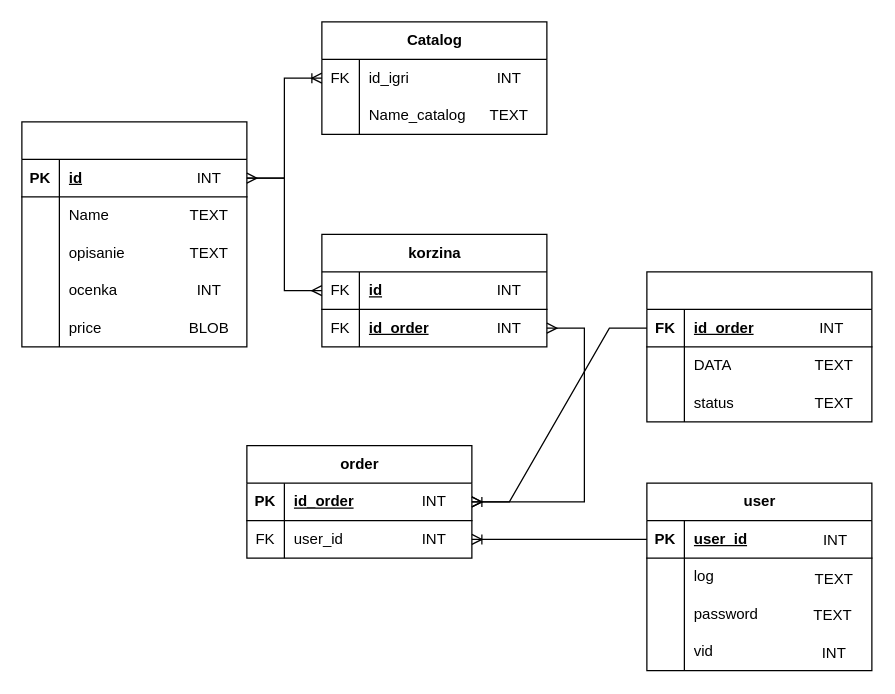
The diagram is 895 pixels wide and 694 high, and some of its shapes have lost their labels. Each missing label, with the box of its shape:
Igri: (21, 121, 247, 347)
list_order: (646, 271, 872, 422)
